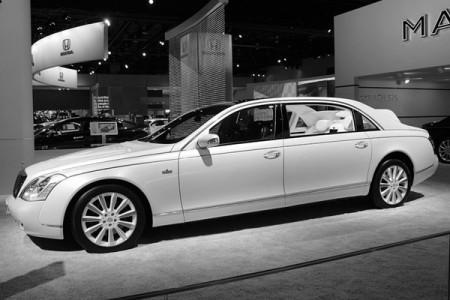car: (7, 96, 439, 250)
